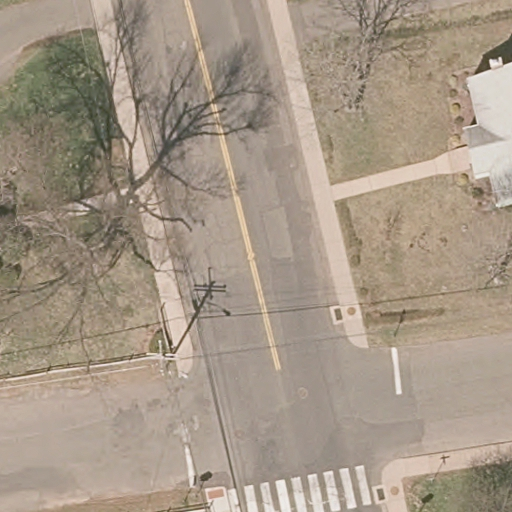DT: (145, 310, 195, 377)
